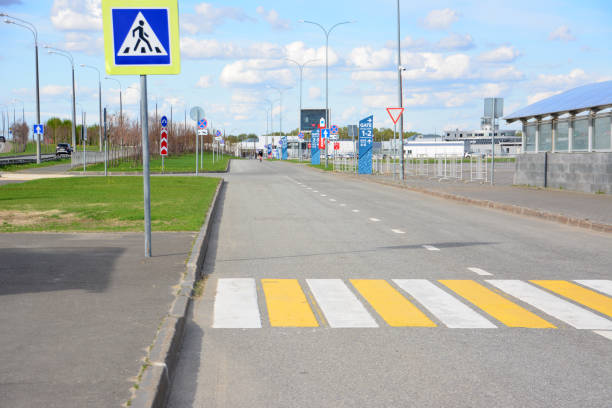yaya_gecidi: (113, 9, 173, 70)
